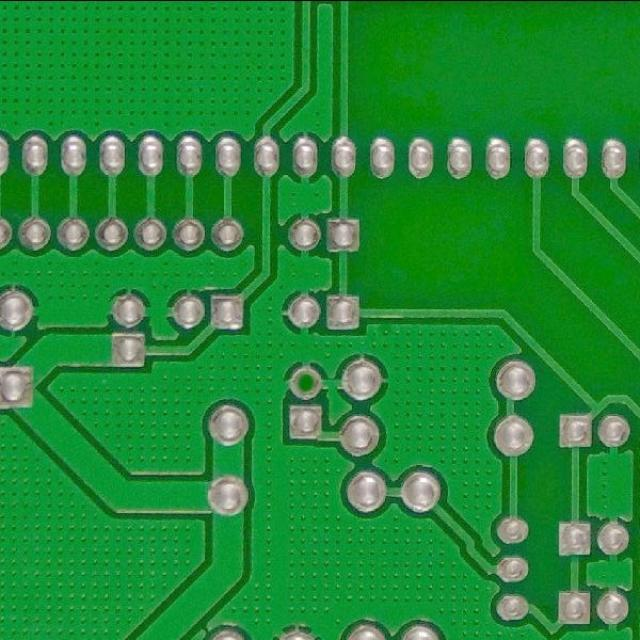Missing_Hole: (286, 364, 325, 401)
